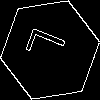L: (25, 25, 75, 68)
